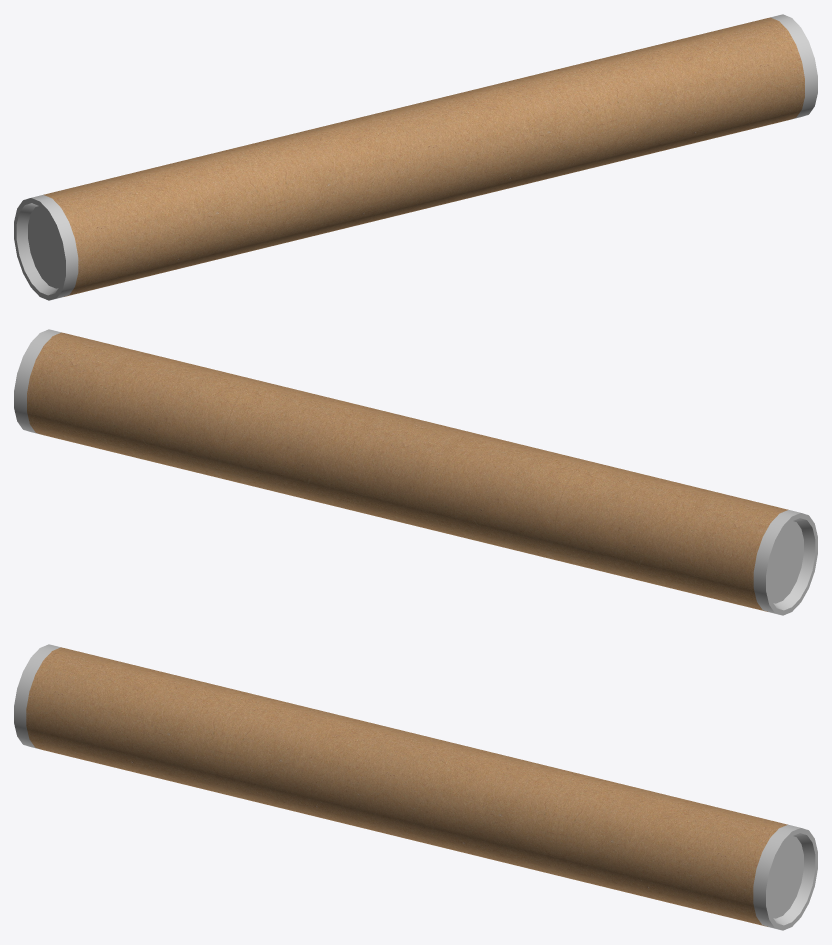
Rendered from Paper roll.FBX.
3 renders of one model, top to bottom at view 1: azimuth 30°, elevation 25°; view 2: azimuth 150°, elevation 25°; view 3: azimuth 330°, elevation 25°, orthographic.
Parts seen in each view (by area): view 1: paper roll; view 2: paper roll; view 3: paper roll.
Part boxes in pixels (x1,y1,x2,y2): paper roll: (14,14,817,300); paper roll: (14,329,817,615); paper roll: (14,644,817,930).
Size of the model in its own units: 44.7 by 5.42 by 5.34.
